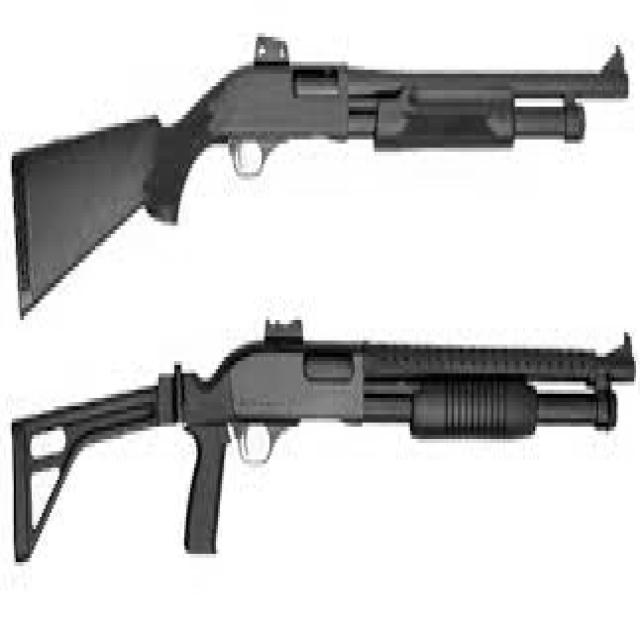gun: (10, 29, 628, 316), (10, 312, 636, 562)
